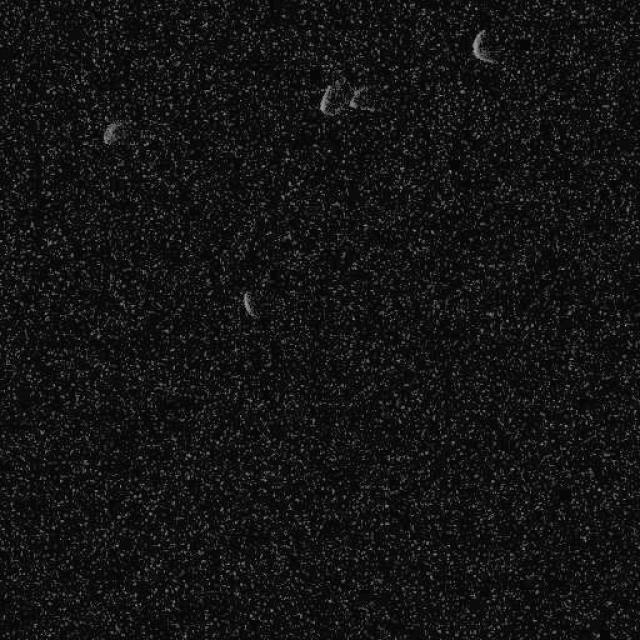D2: (318, 75, 362, 117), (470, 27, 498, 65), (240, 290, 259, 319), (101, 120, 122, 145)
